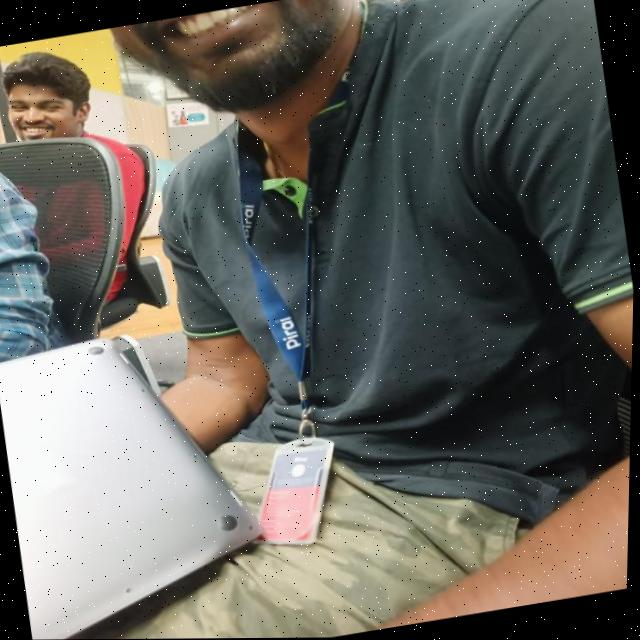id_card: (184, 79, 423, 560)
